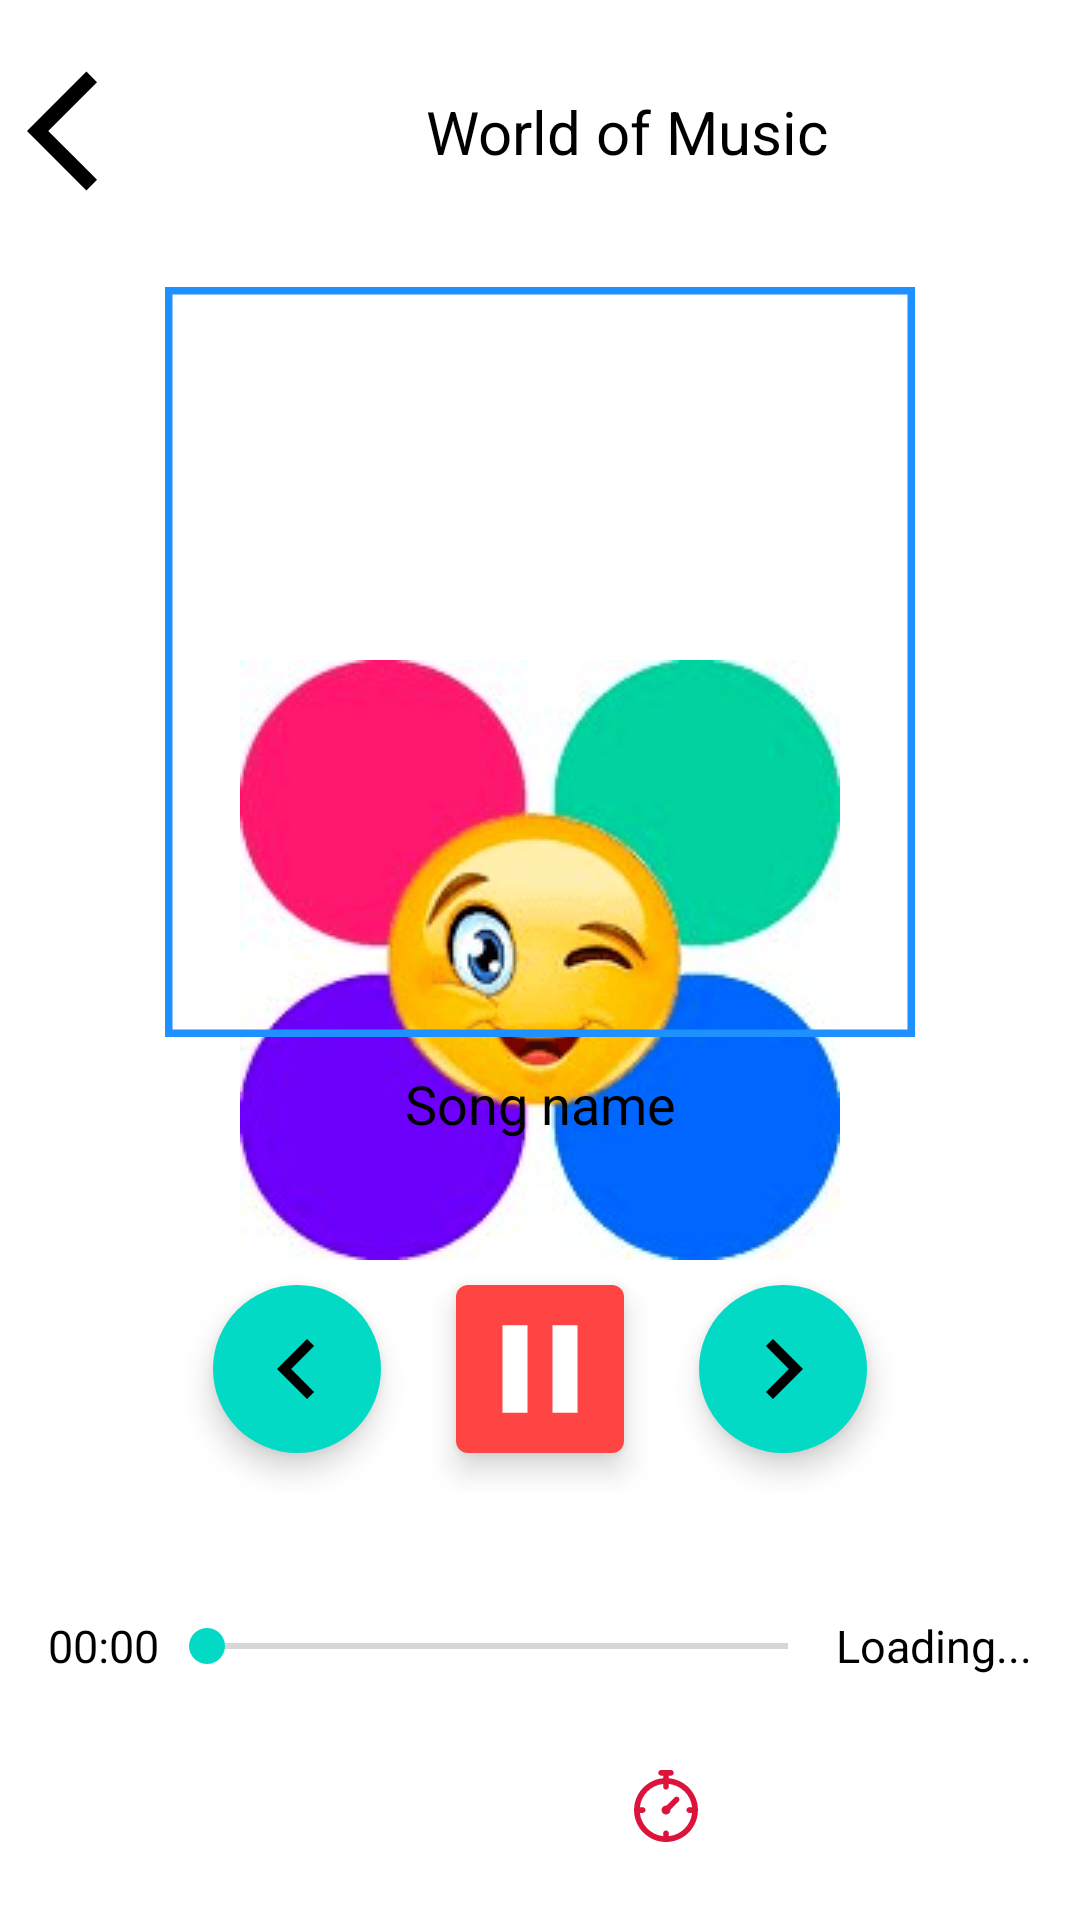

Where to tap for icons on this 1080 × 1920 app screen, as point (x, y):
Back: point (62, 131)
next: point (783, 1369)
pause: point (540, 1369)
previous: point (297, 1369)
Timer: point (666, 1806)
